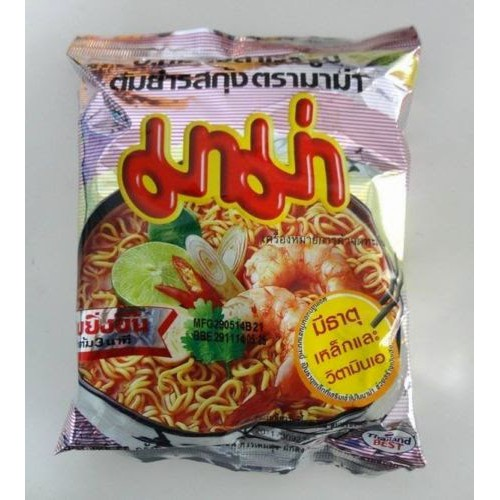Snack: (50, 23, 429, 481)
